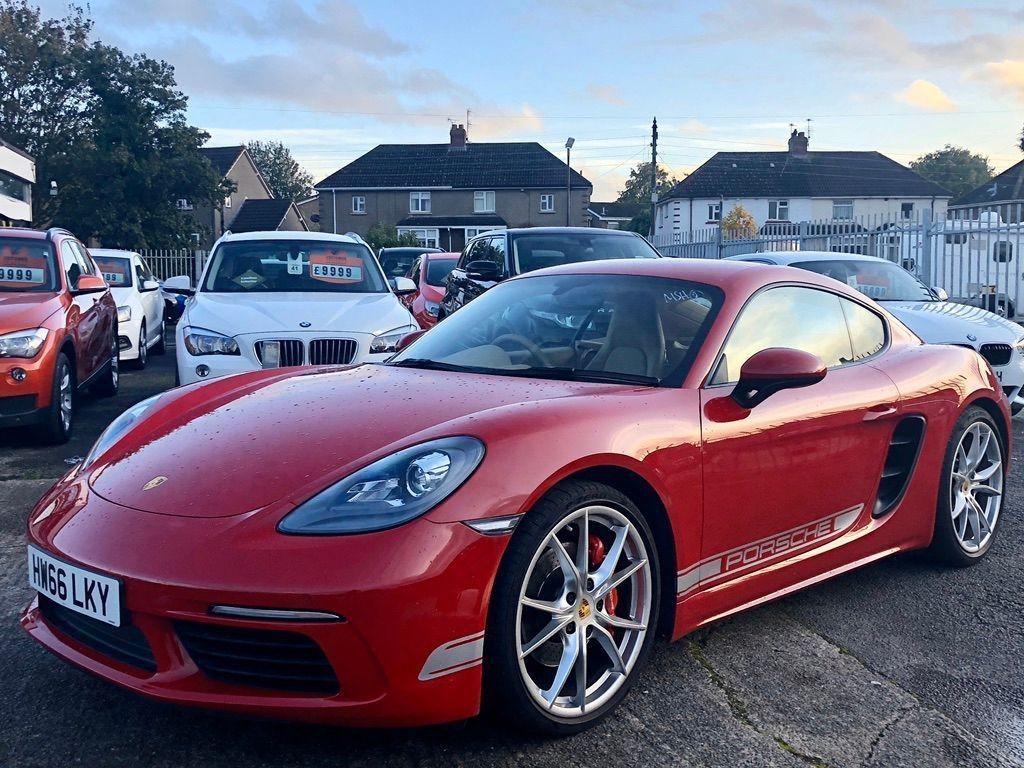car: (39, 267, 1008, 733), (715, 239, 1023, 424), (181, 228, 423, 393), (444, 231, 687, 362), (2, 225, 113, 447), (90, 236, 164, 366), (414, 254, 478, 337), (376, 231, 449, 290)
